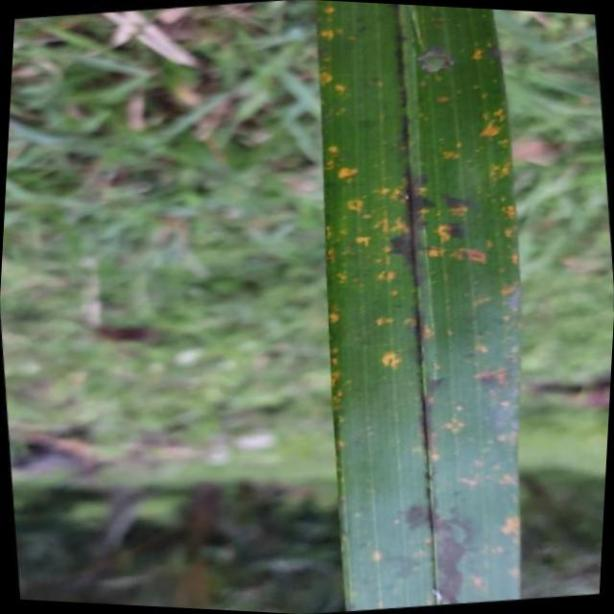Healthy: (312, 2, 524, 609)
